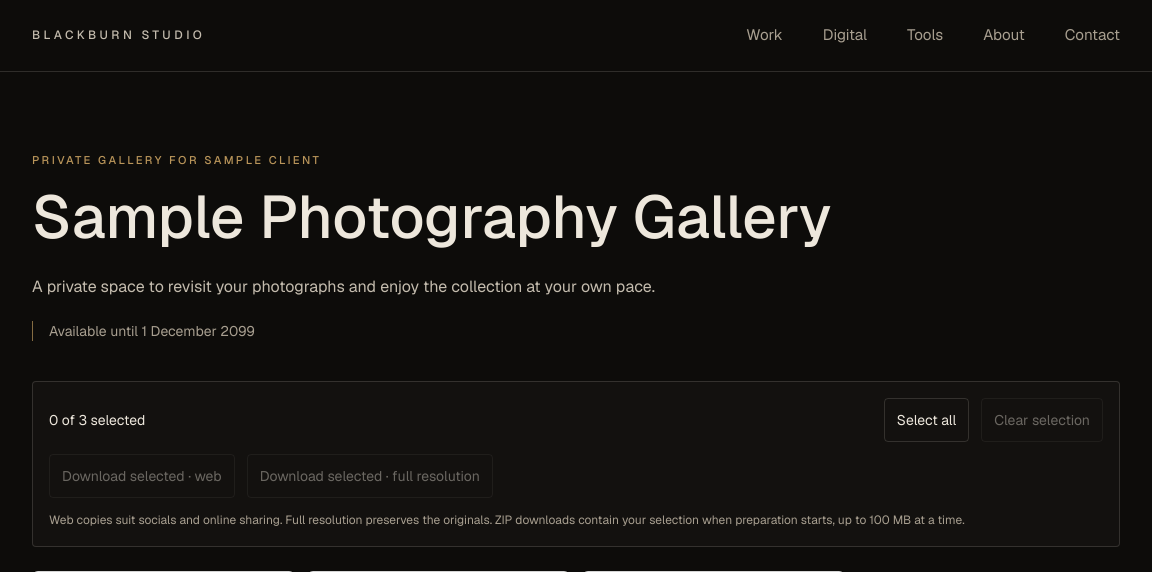
Test: lets the visitor cancel preparation without reporting a failure
Click the button "Select all". click: (926, 420)
box: top-left (884, 398), bottom-right (969, 442)
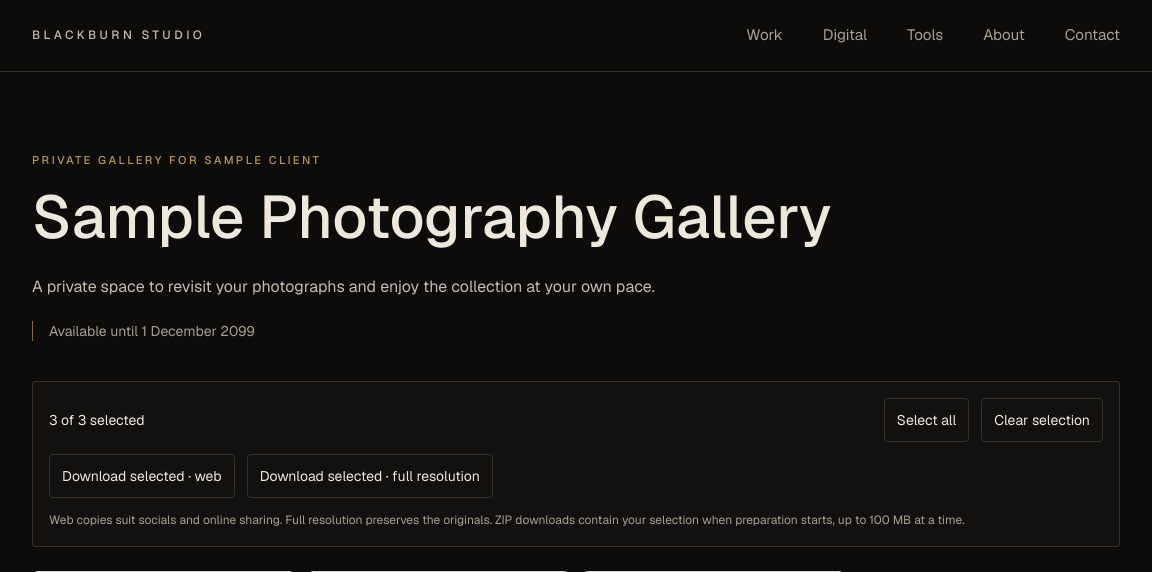
Click the button "Download selected · web". click: (142, 476)
box: top-left (49, 454), bottom-right (235, 498)
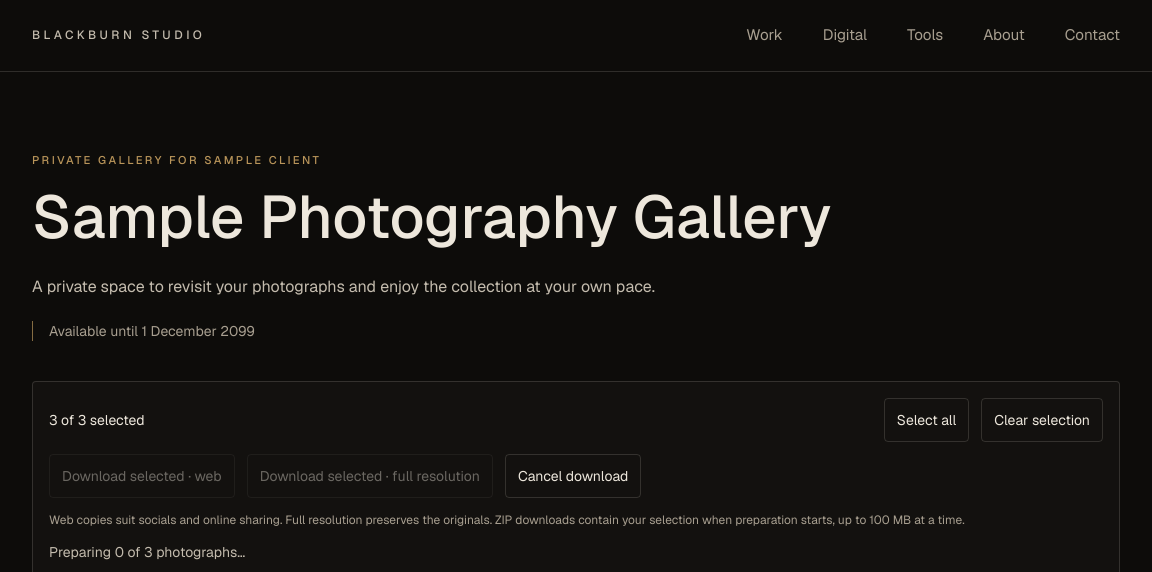
Click the button "Cancel download". click: (573, 476)
box: top-left (505, 454), bottom-right (641, 498)
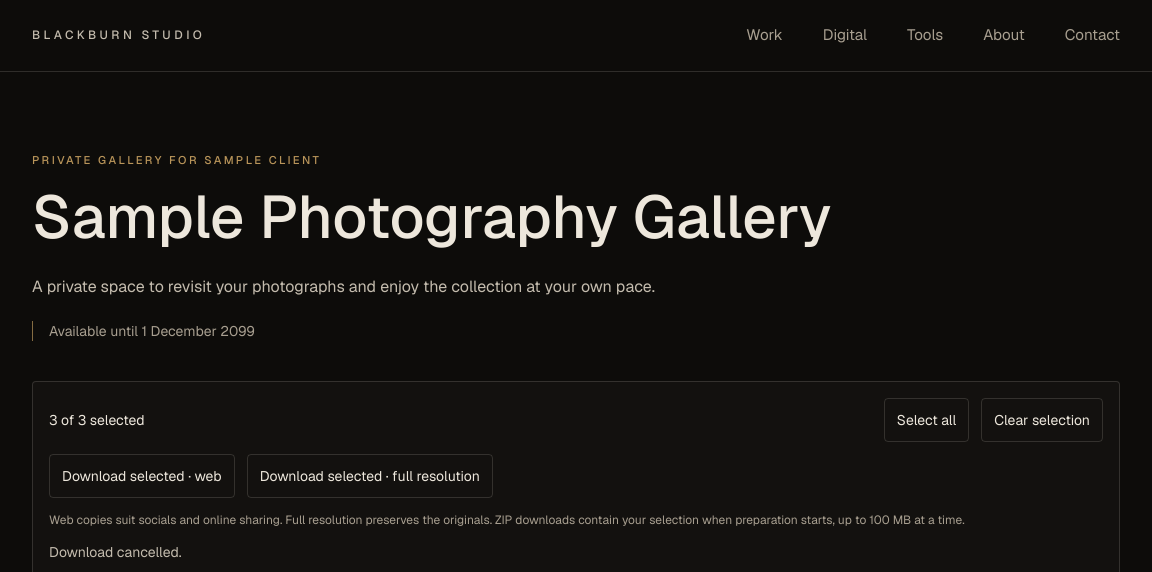
Now the button "Download selected · web" is enabled, box top-left (49, 454), bottom-right (235, 498)
Now the message shows "cancelled", box top-left (49, 543), bottom-right (182, 561)
